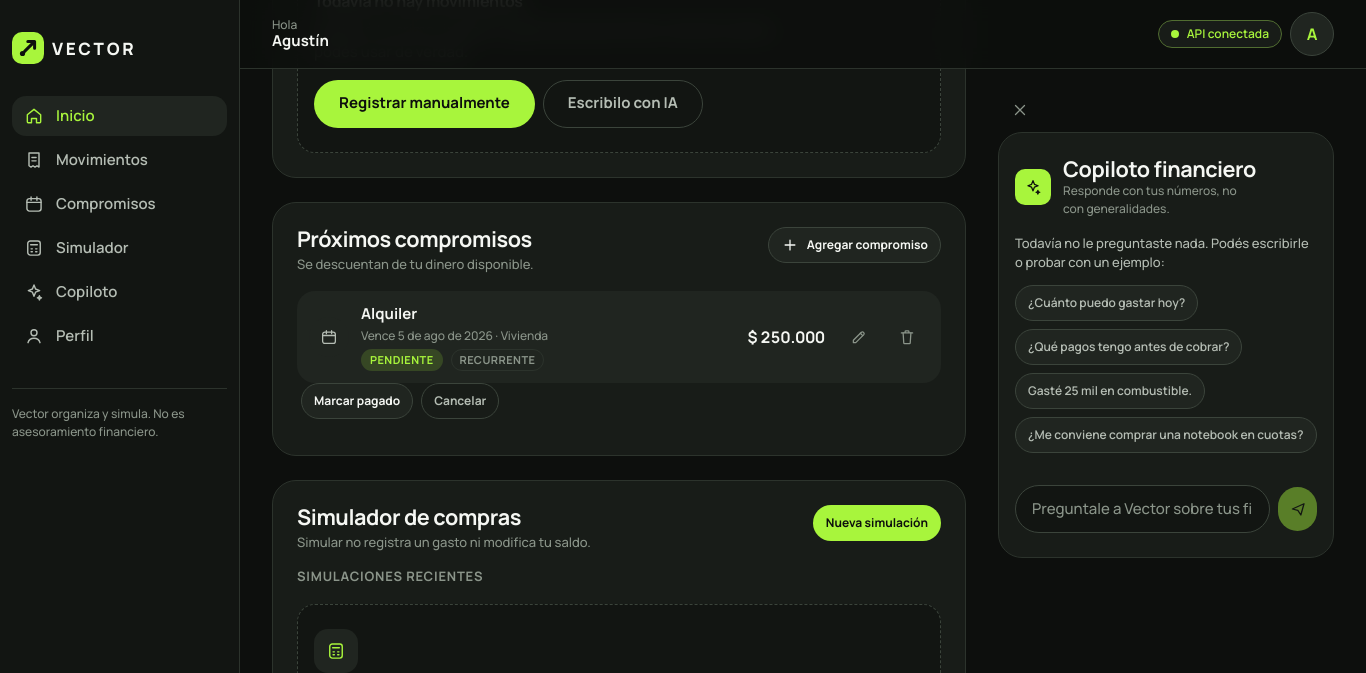
Test: DashboardPage › cambia el estado de un compromiso a pagado y refresca datos afectados
(page scrolled)
Click the button with aria-label "Marcar Alquiler como pagado" at (357, 401), box [301,383,413,419]
(page scrolled)
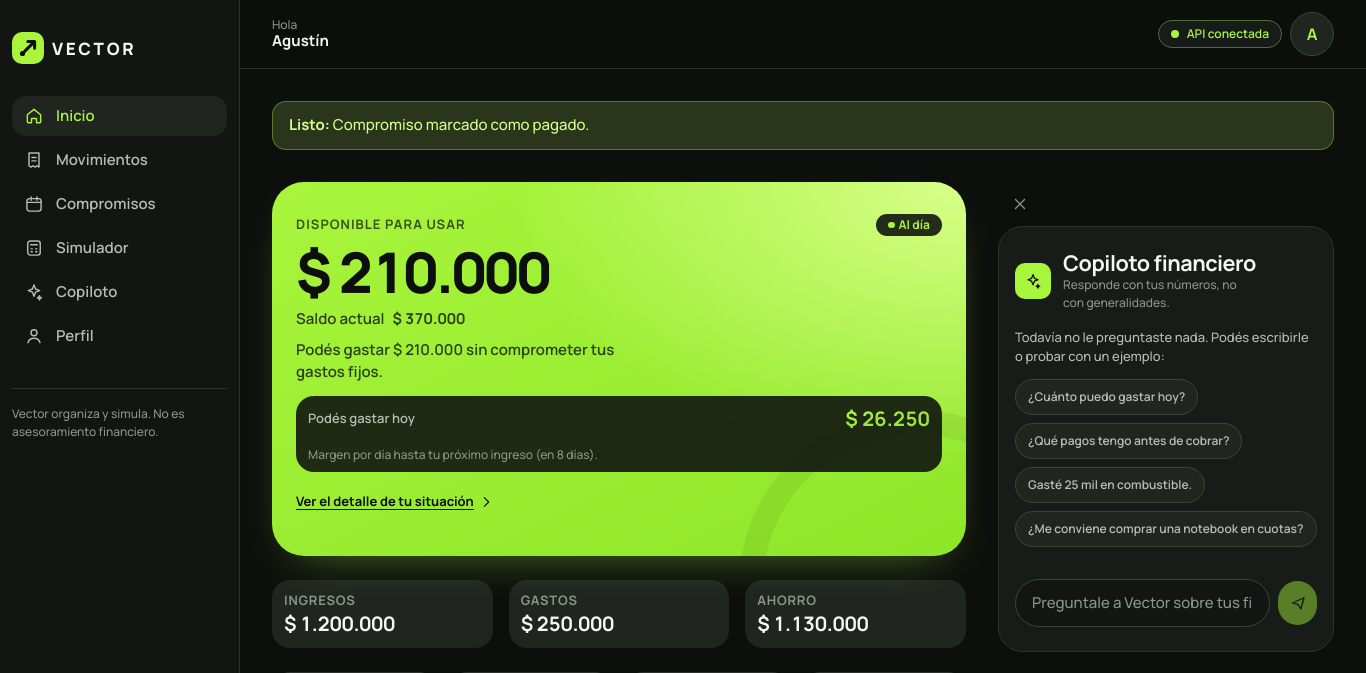
Now the text "Listo: Compromiso marcado como pagado." is shown, box [272,101,1334,150]
